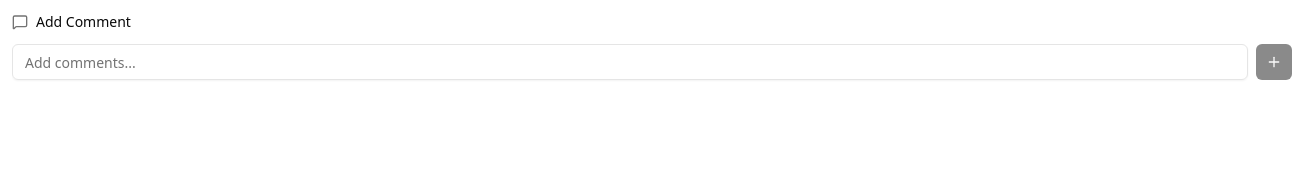
Test: CommentContent › Adding Comments › submit button is enabled when input has text
Type "Test comment" into the field with test id "comment-input" at (630,62), box [12,44,1248,80]
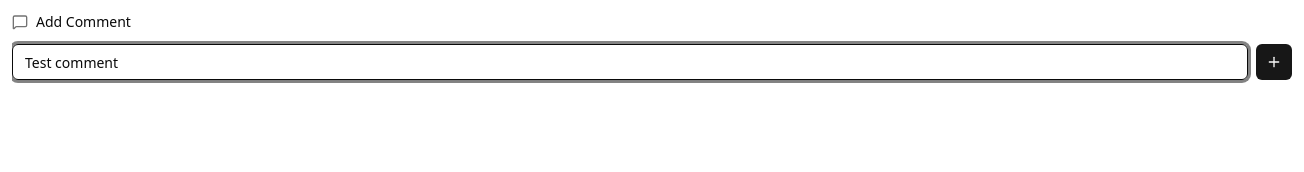
Now the button with test id "comment-submit-button" is enabled, box [1256,44,1292,80]
